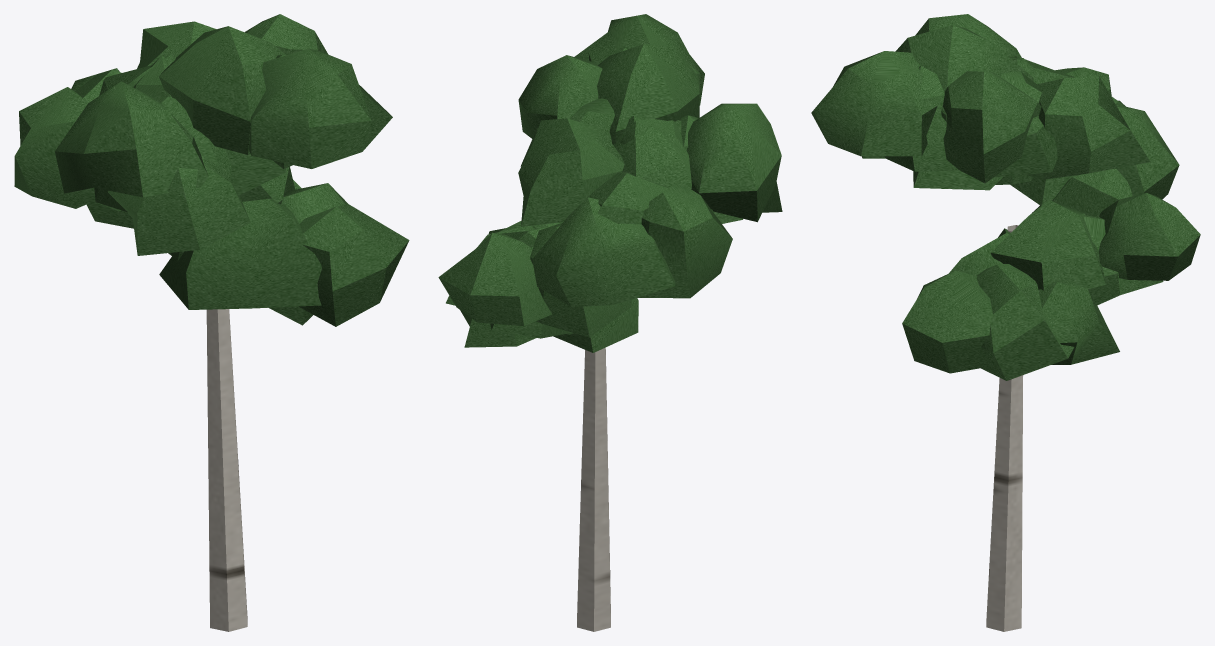
File: ambient_tree_13.glb
The picture shows the model from 3 angles, left to right: view 1: azimuth 30°, elevation 25°; view 2: azimuth 150°, elevation 25°; view 3: azimuth 270°, elevation 25°; orthographic projection. The views are drawn at different scales.
Visible parts, largest first — view 1: ambient_tree_13; view 2: ambient_tree_13; view 3: ambient_tree_13.
Boxes of the visible parts, x1=… form: ambient_tree_13: x1=14, y1=14, x2=409, y2=631; ambient_tree_13: x1=438, y1=14, x2=782, y2=631; ambient_tree_13: x1=811, y1=14, x2=1200, y2=631.
Bounding box in the file's own units: 5.28 × 9.51 × 5.72.
Materials: 2 (2 with a texture image).
